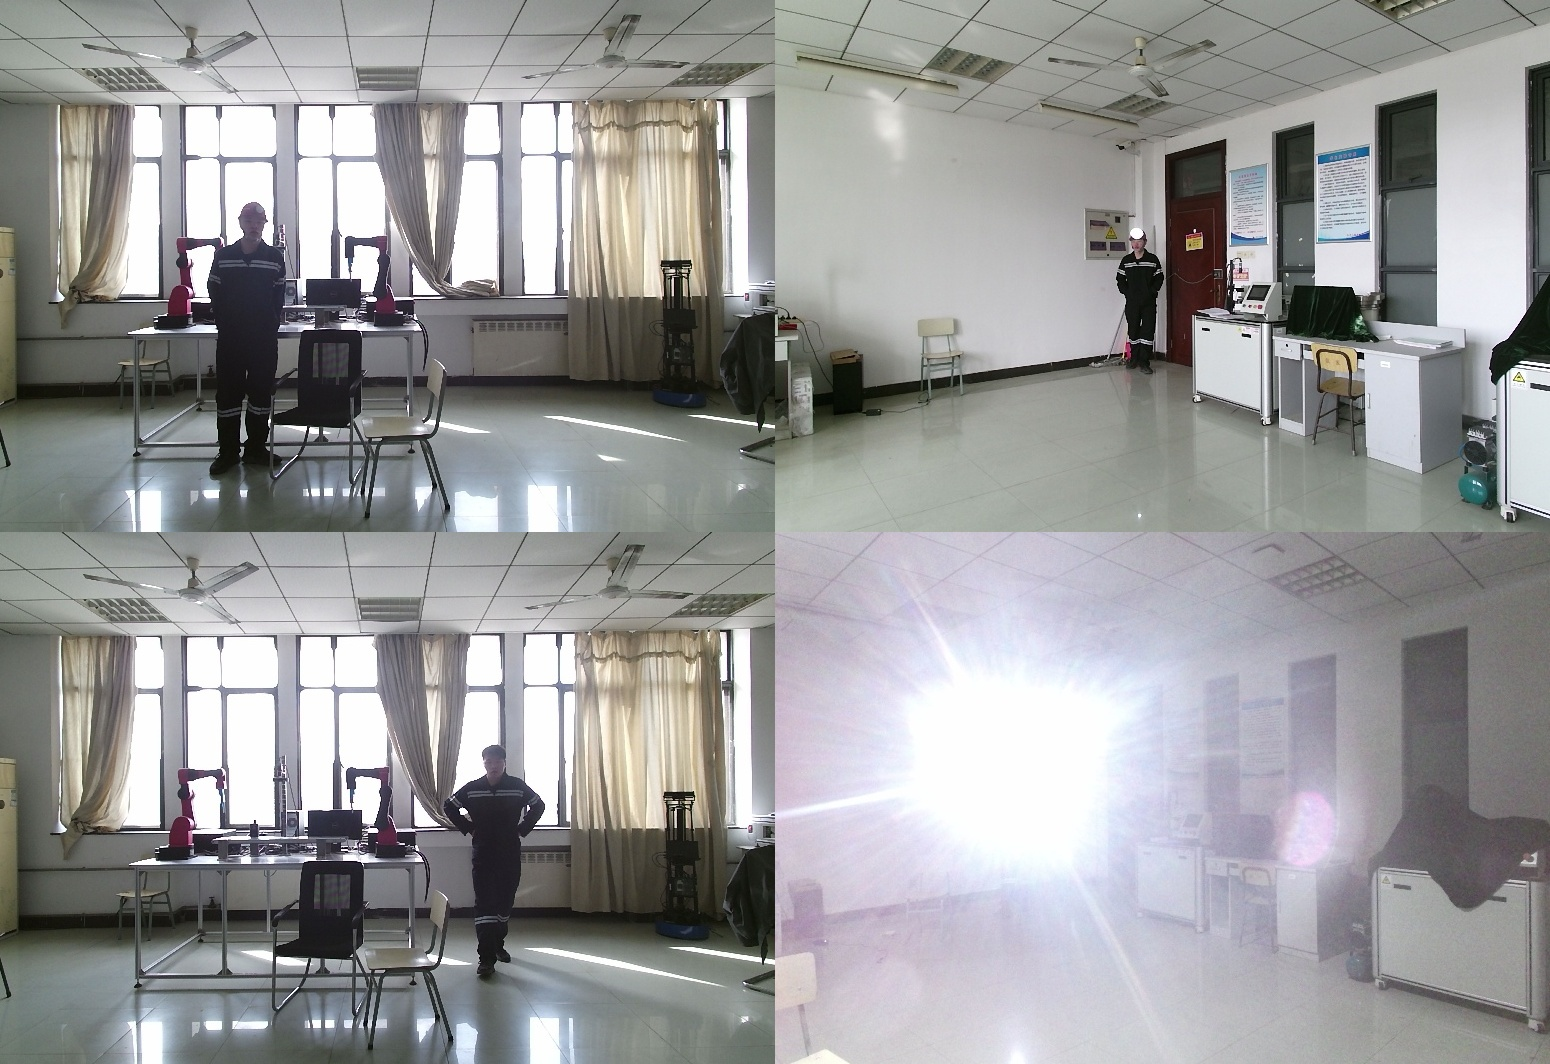person: (442, 745, 547, 982), (206, 202, 290, 479), (989, 763, 1045, 923), (1117, 233, 1162, 371)
